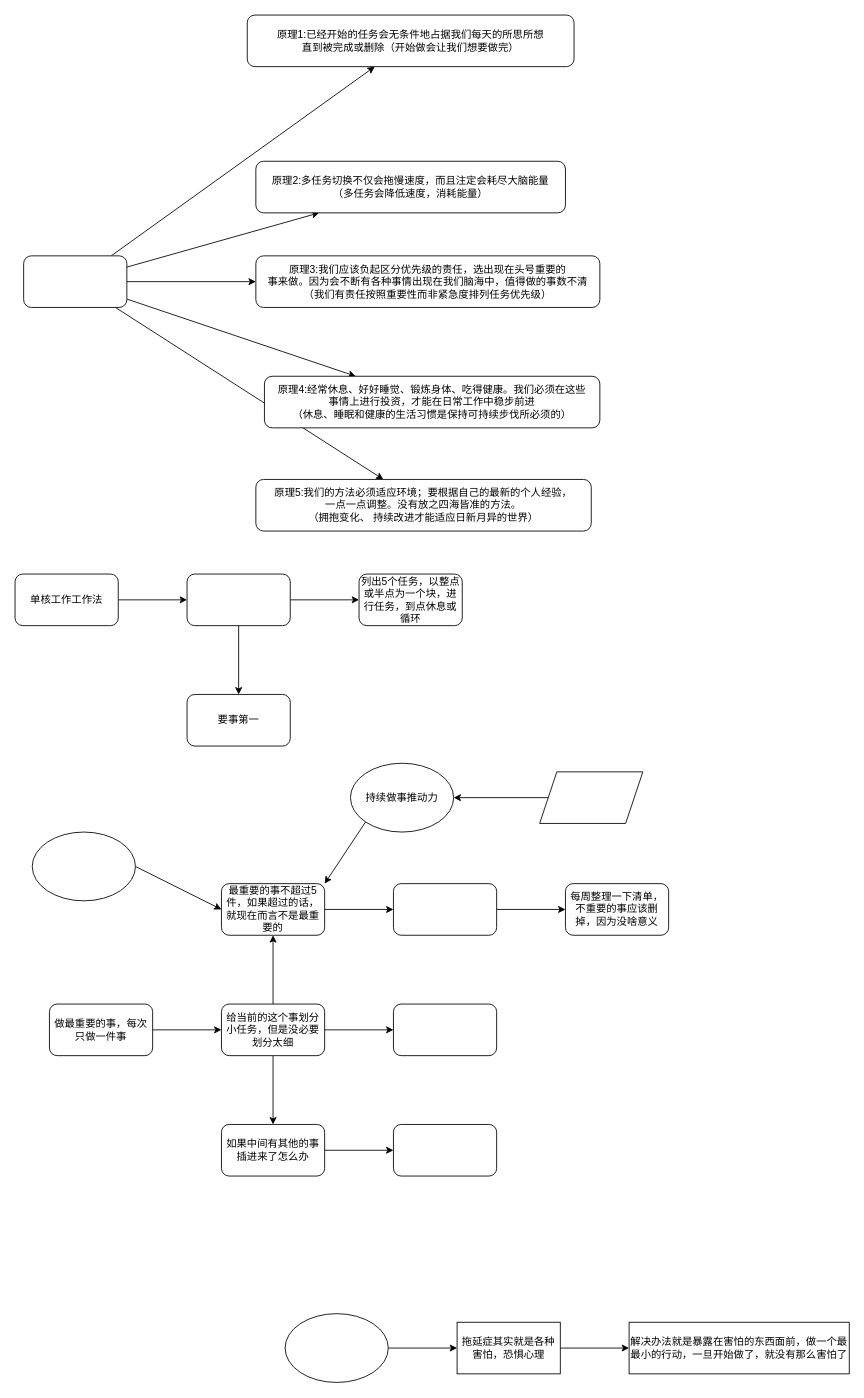
This 864x1398 diagram has some shape labels left out. Each missing label, with the centre of its shape:
"5个原理" goes at (x=75, y=281).
"不重要的，应该推到一起，在一个统一的时间里解决" goes at (x=445, y=1150).
"头天下班前做一半留下 潜意识会一直惦记这个事，直到完成" goes at (x=591, y=797).
"如果一件事在清单里很长时间都没有做，这不是一件重要的事" goes at (x=445, y=909).
"完成这个事，目标具体是什么，谁受益，如果是别人受益，需要告诉他现在的情况" goes at (x=445, y=1029).
"拖延症" goes at (x=336, y=1347).
"早晨划个时间安排最重要的5件事" goes at (x=83, y=866).
"问自己我此时此刻的时间最好用来做什么" goes at (x=238, y=599).
